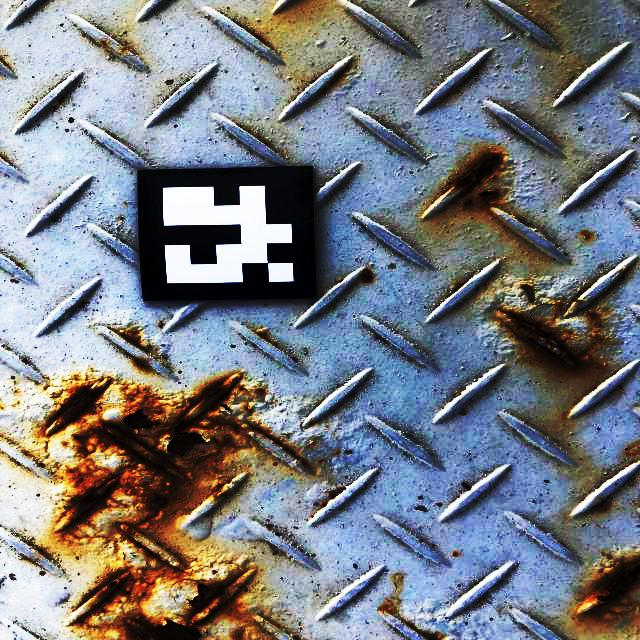Corrosion: (44, 373, 256, 640), (497, 299, 606, 371), (579, 563, 640, 630), (450, 153, 514, 209), (250, 423, 307, 468), (119, 332, 142, 346), (134, 358, 153, 370), (593, 499, 608, 510)
